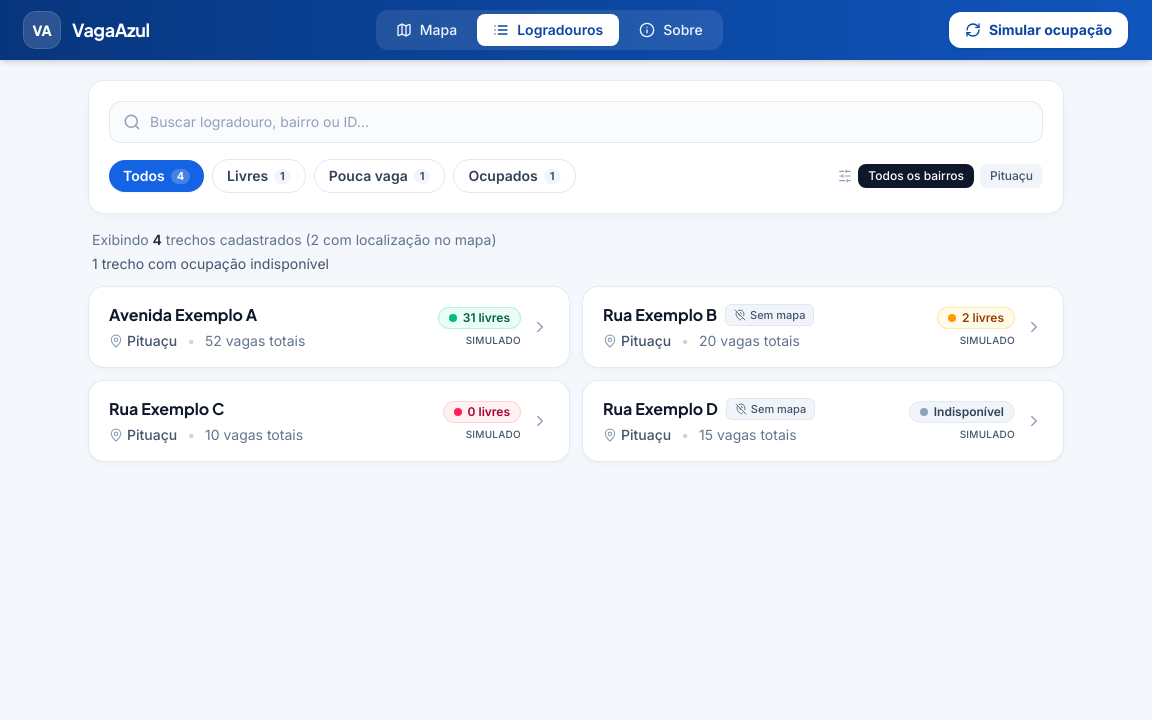
Test: Navegação e listagem › Consulta dos detalhes › apresenta ocupação indisponível sem informar valores incorretos
Earlier steps of the test are not shown.
What coordinates should you click on to do the following:
click the heading "Rua Exemplo D"
I would click on:
 (660, 409)
Its box is [603,397,718,421].
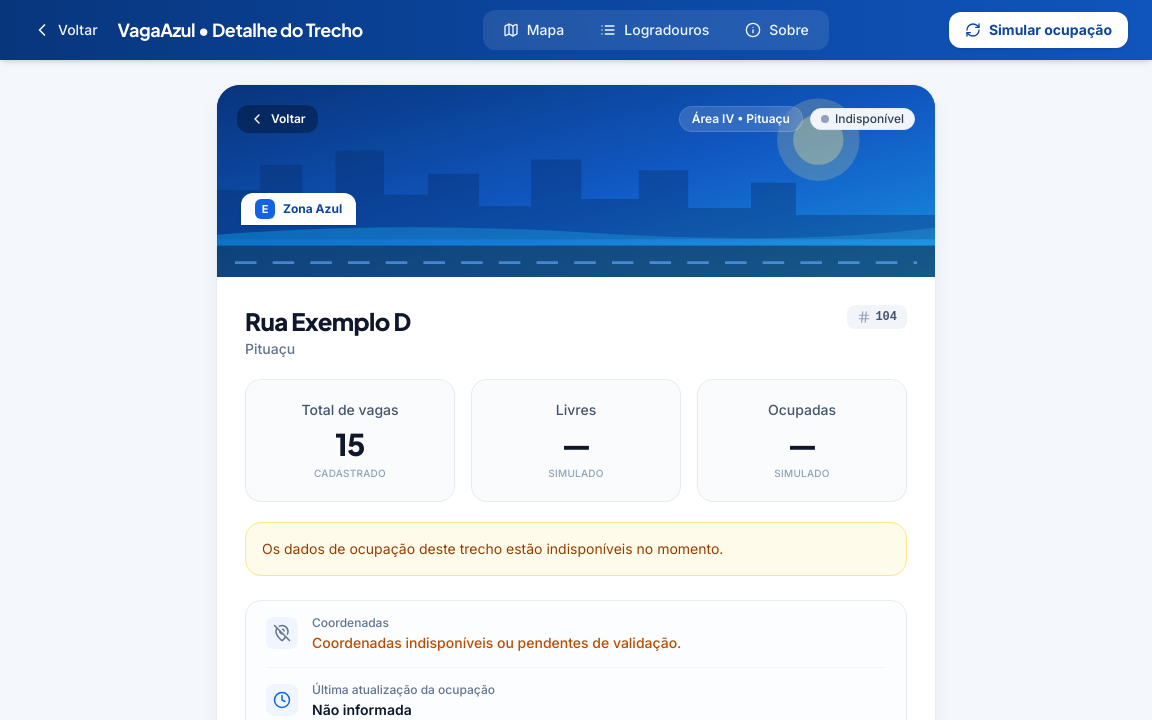
Result: the element with test id "stat-total" shows "15" at [335,425,365,463]
Result: the element with test id "stat-livres" shows "—" at [561,425,591,463]
Result: the element with test id "stat-ocupadas" shows "—" at [787,425,817,463]
